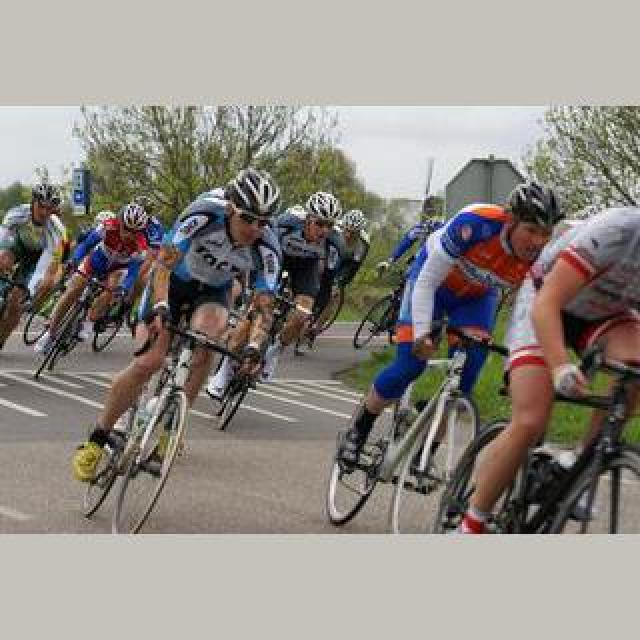MC-Bike: (354, 184, 570, 526), (76, 178, 280, 510), (450, 198, 640, 534), (64, 208, 152, 354), (0, 178, 70, 334), (278, 198, 344, 354)
Person: (432, 328, 640, 530), (326, 324, 502, 528), (74, 298, 224, 526), (32, 272, 130, 378), (352, 252, 430, 352)
